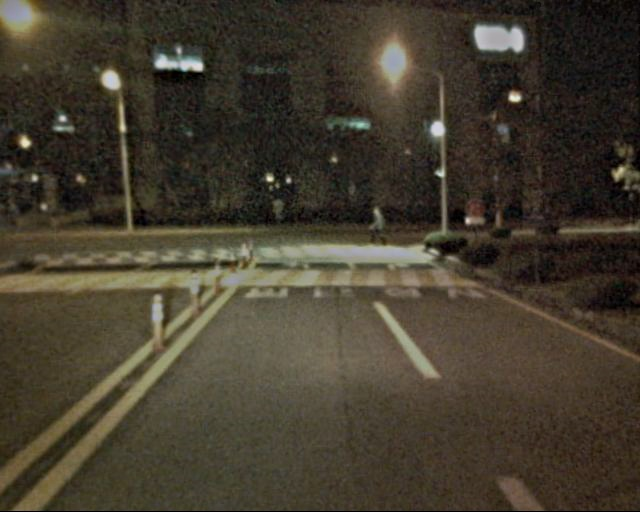person: (367, 205, 389, 259)
